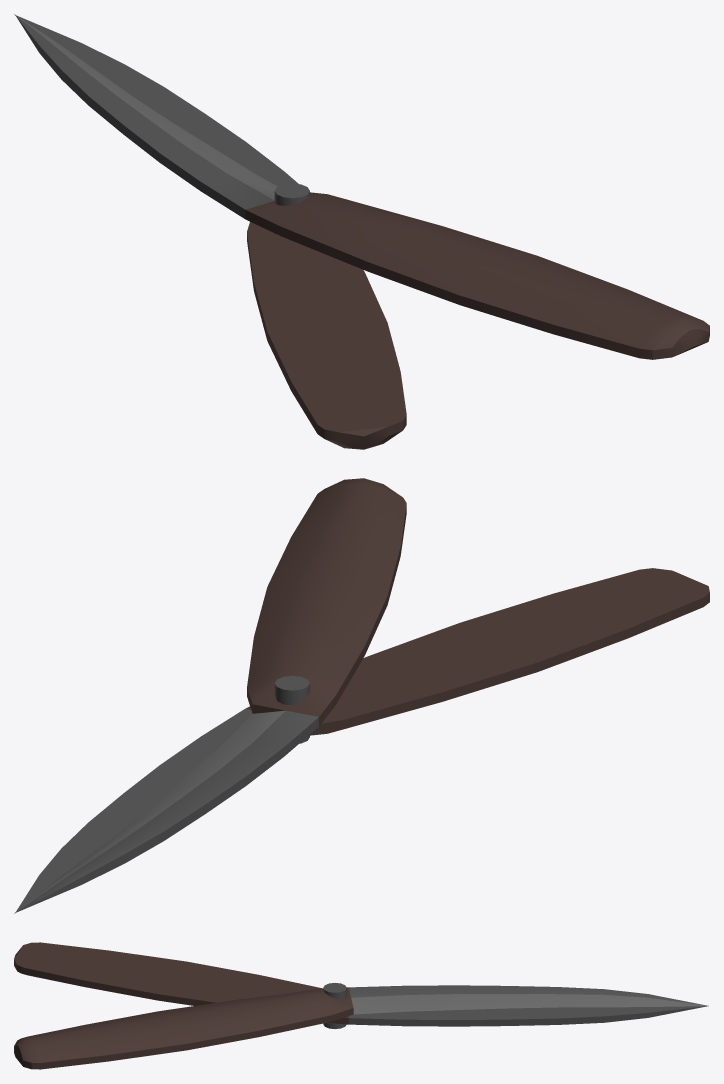
File: weedcutter.fbx
The picture shows the model from 3 angles, top to bottom: view 1: azimuth 30°, elevation 25°; view 2: azimuth 150°, elevation 25°; view 3: azimuth 270°, elevation 25°; orthographic projection. The views are drawn at different scales.
Parts seen in each view (by area): view 1: Weedcutter_R, Weedcutter_L; view 2: Weedcutter_R, Weedcutter_L, Weedcutter; view 3: Weedcutter_R, Weedcutter_L, Weedcutter.
Boxes of the visible parts, left/top/right/bottom form: Weedcutter_R: left=15, top=14, right=709, bottom=359; Weedcutter_L: left=14, top=14, right=406, bottom=449; Weedcutter_R: left=14, top=478, right=406, bottom=913; Weedcutter_L: left=15, top=568, right=709, bottom=913; Weedcutter: left=274, top=675, right=309, bottom=743; Weedcutter_R: left=14, top=985, right=708, bottom=1069; Weedcutter_L: left=14, top=942, right=708, bottom=1026; Weedcutter: left=323, top=983, right=346, bottom=1028.
Bounding box in the file's own units: 83.54 × 11.15 × 193.
